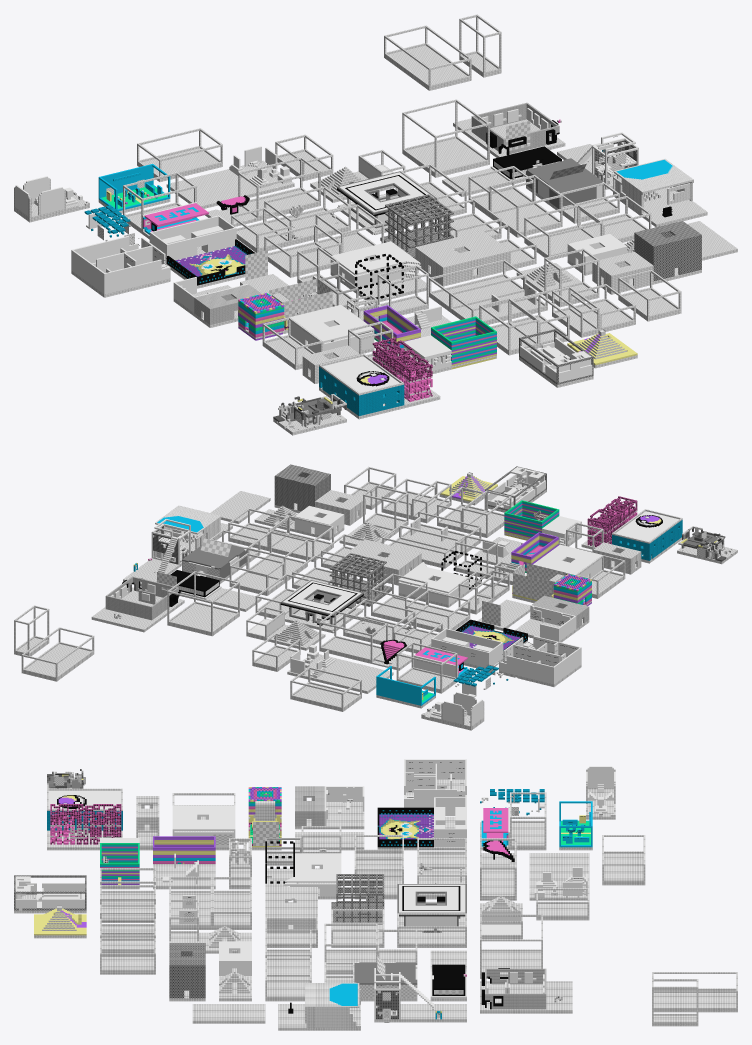
Rendered from Kitties-v2.glb.
The picture shows the model from 3 angles, top to bottom: view 1: azimuth 30°, elevation 25°; view 2: azimuth 150°, elevation 25°; view 3: azimuth 270°, elevation 25°; orthographic projection. The views are drawn at different scales.
Visible parts, largest first — view 1: solid-voxels.008; view 2: solid-voxels.008; view 3: solid-voxels.008, feature-0fd26418-72a3-4702-9980-5ec2965ff38b.
Part boxes in pixels (x1,y1,x2,y2): solid-voxels.008: (14,14,737,435); solid-voxels.008: (14,464,737,730); solid-voxels.008: (14,759,737,1030); feature-0fd26418-72a3-4702-9980-5ec2965ff38b: (253,822,279,845).
Size of the model in its own units: 178 by 14.5 by 219.
Materials: 3 (2 with a texture image).
